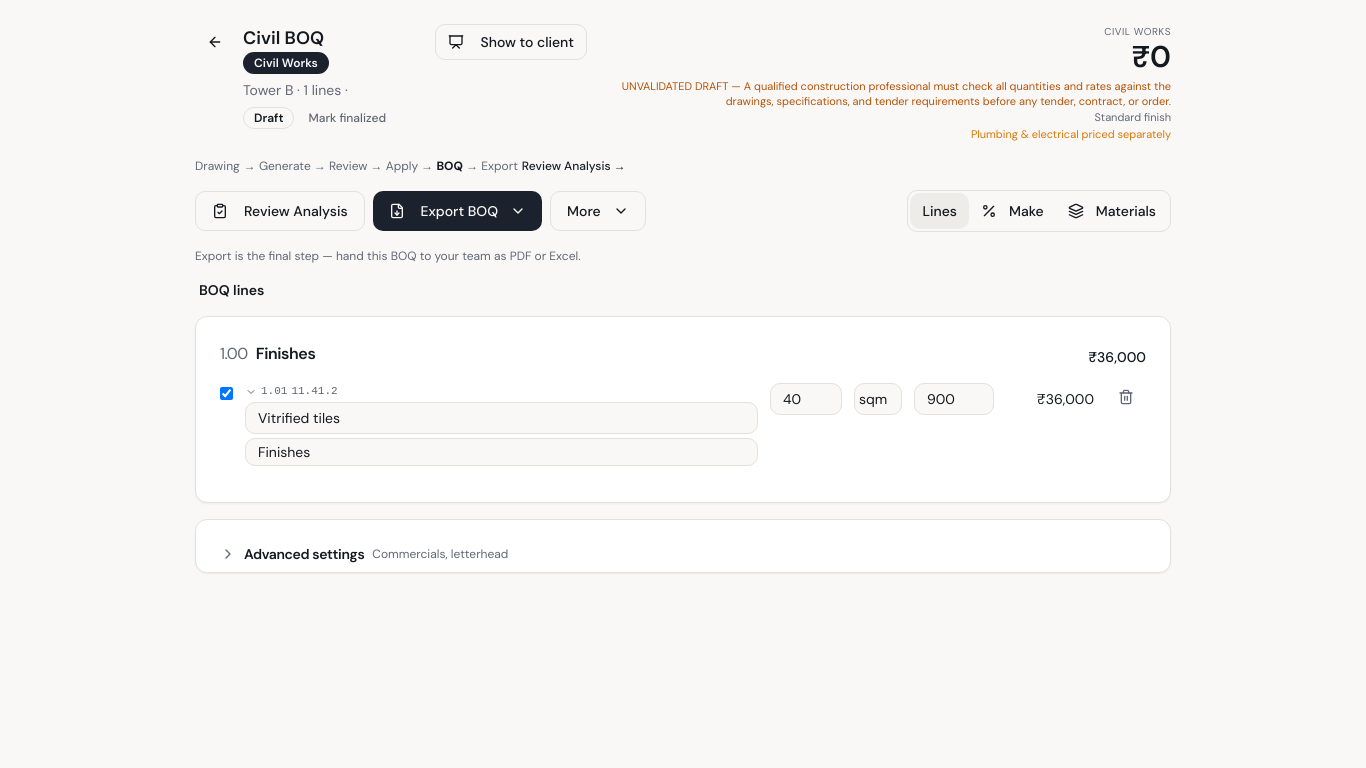
Test: OpsBoqBuilder — quantity field follows the saved value › edit → Undo: shows the restored value
The image size is (1366, 768).
Replace the text in the number field named "Quantity for Vitrified tiles" with "45" at {"x": 806, "y": 399}, box top-left (770, 383), bottom-right (842, 415)
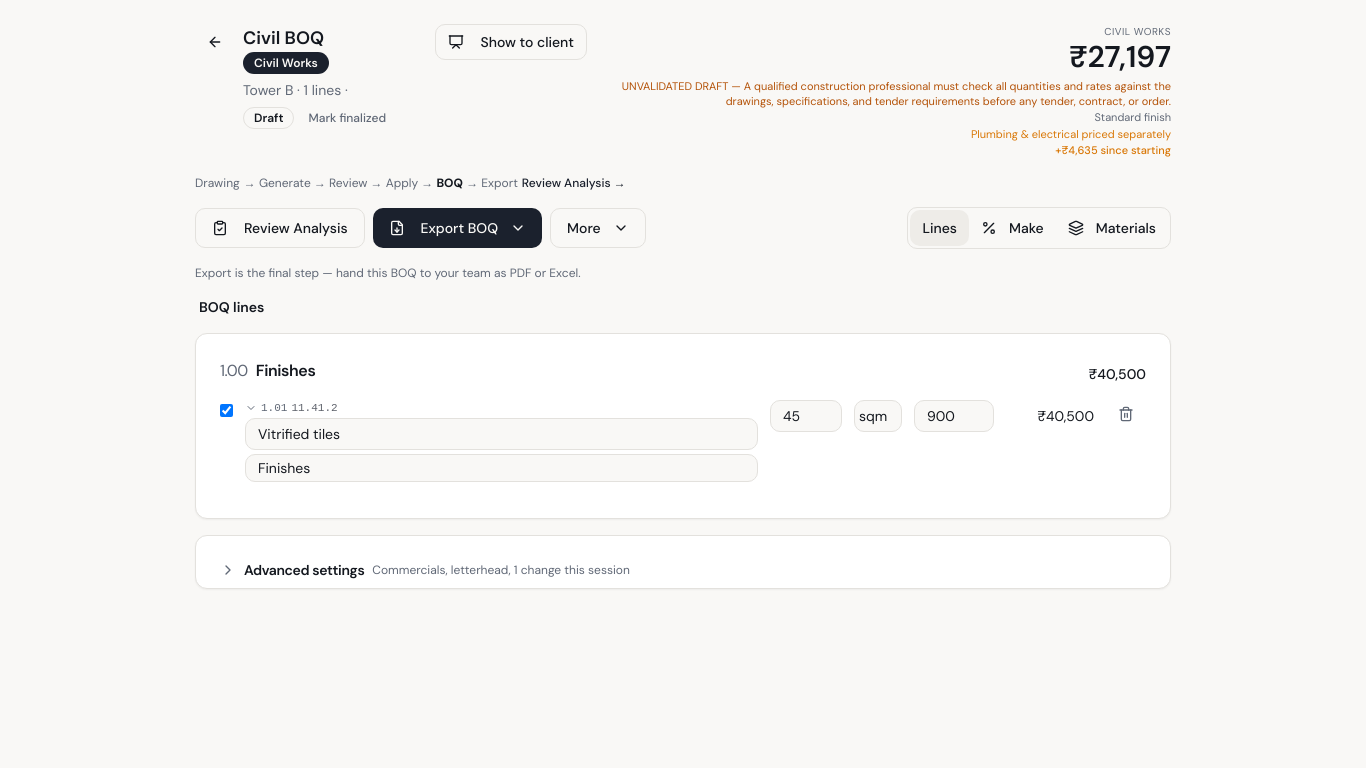
Click the text "Advanced settings" at {"x": 304, "y": 570}, box top-left (244, 560), bottom-right (364, 580)
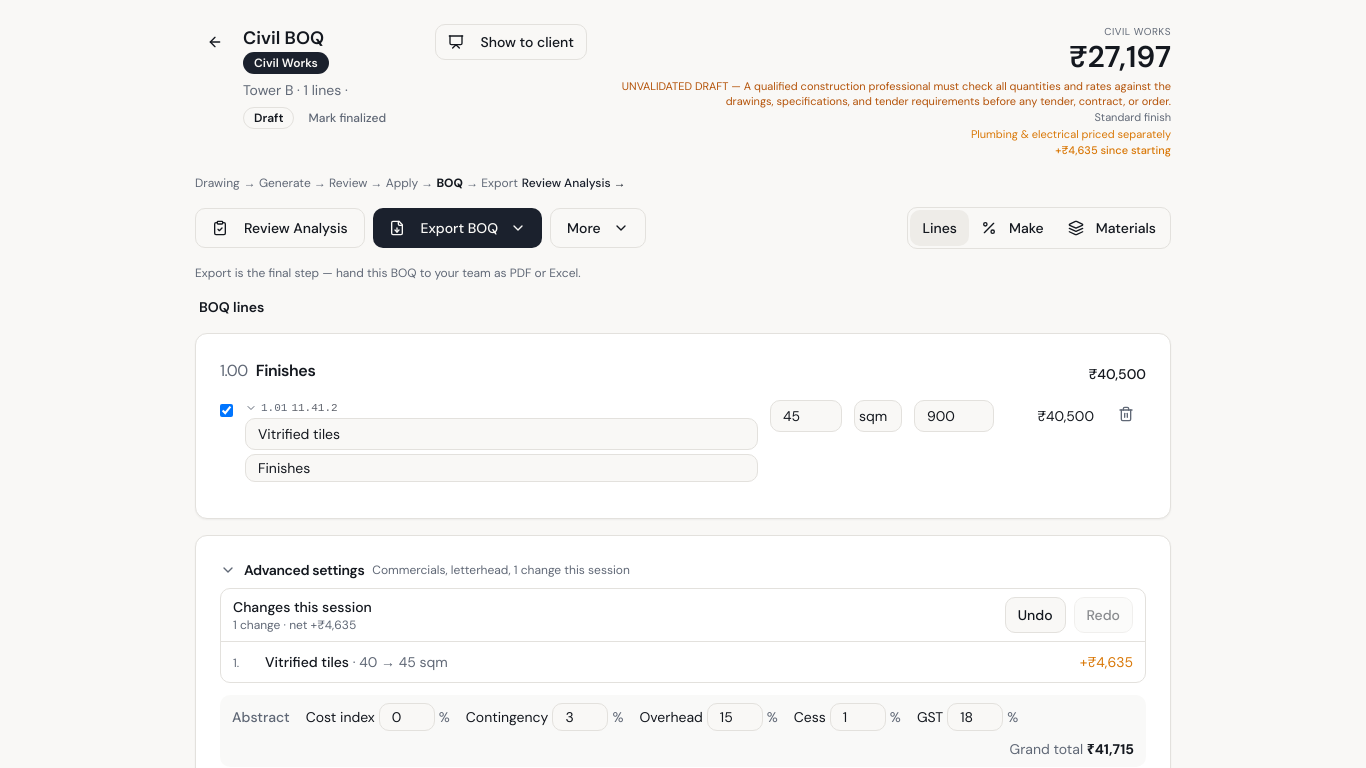
Click the button "Undo" at {"x": 1035, "y": 615}, box top-left (1005, 597), bottom-right (1066, 633)
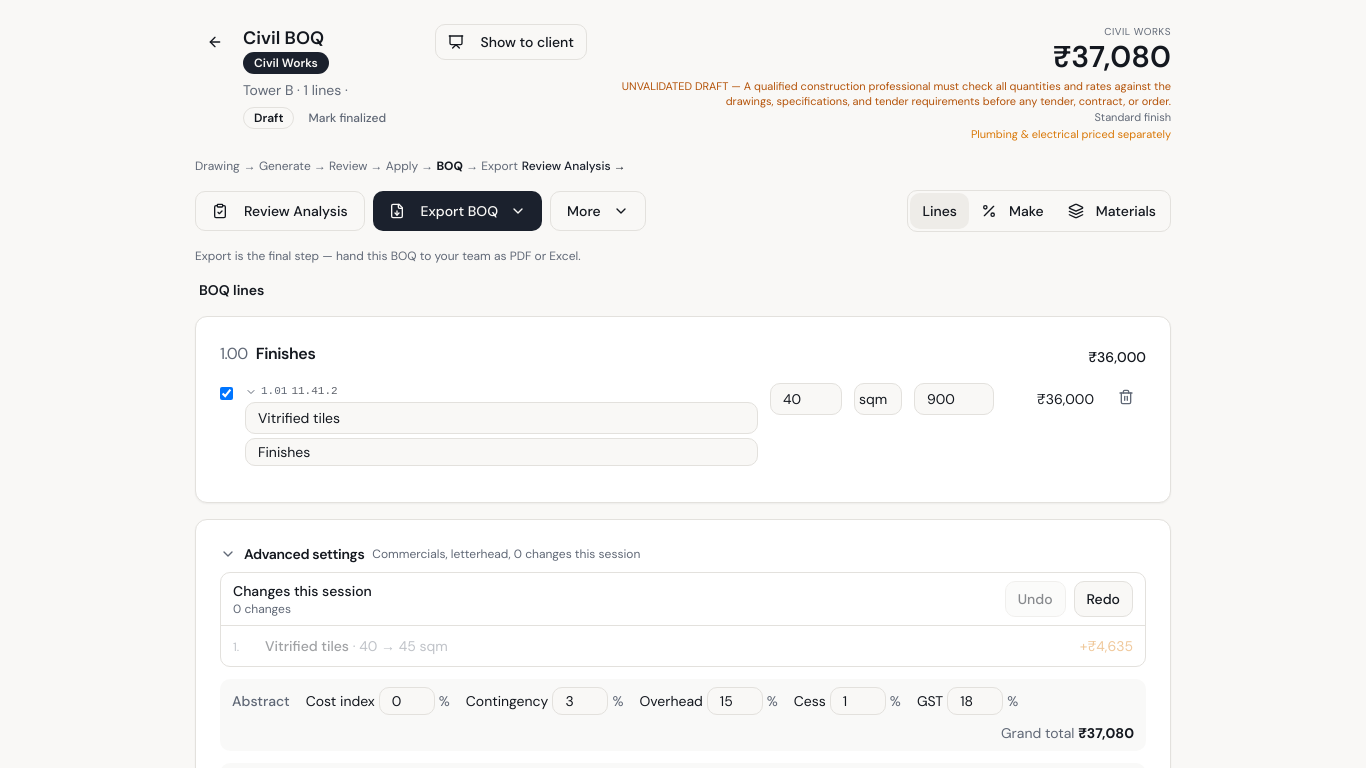
expect the number field named "Quantity for Vitrified tiles" holds "40": met, box top-left (770, 383), bottom-right (842, 415)
